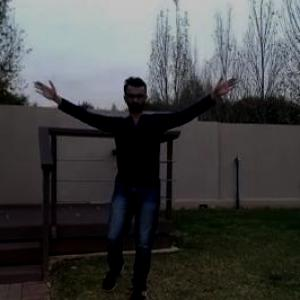takeoff: (34, 86, 229, 299)
